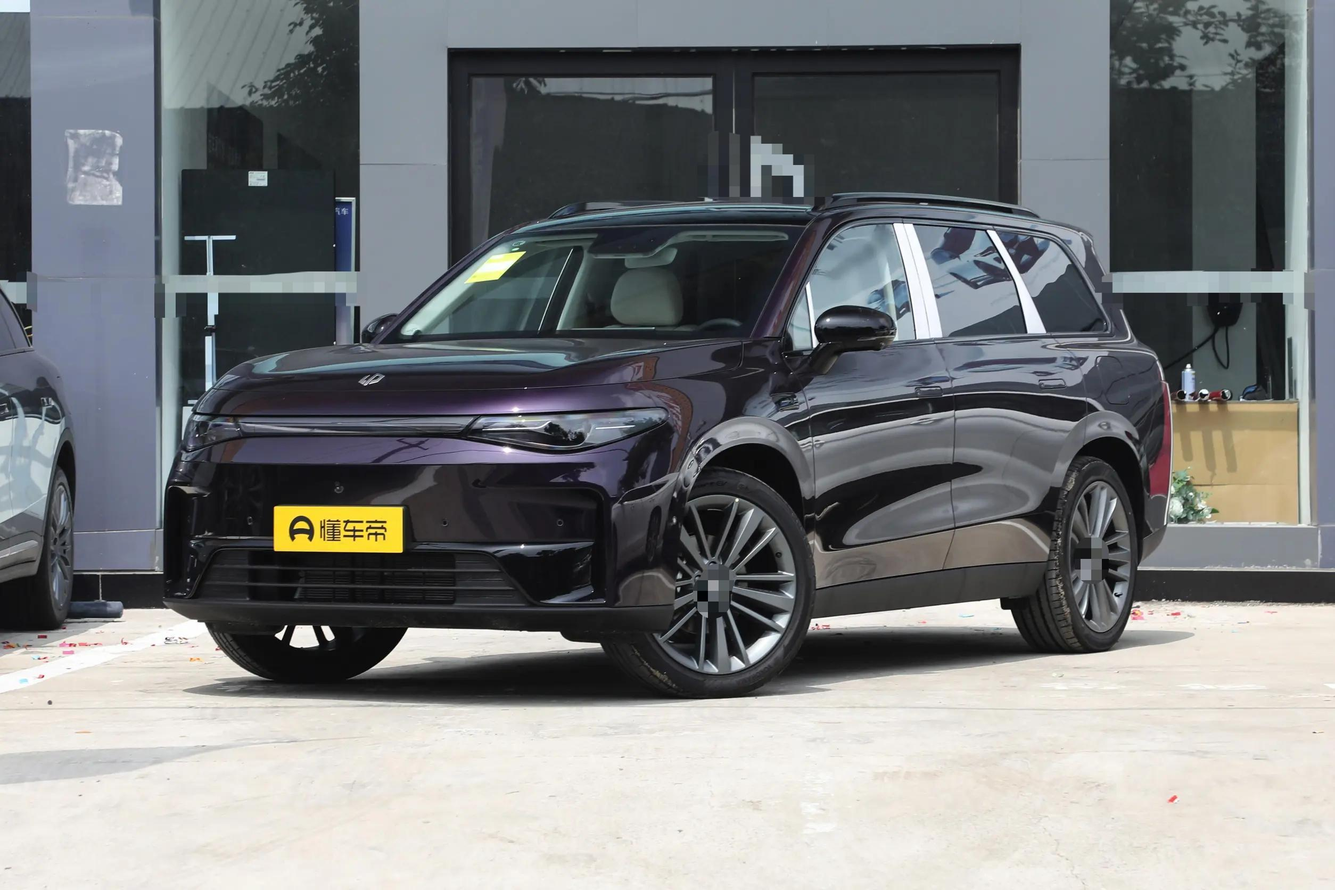LEAPMOTOR: (358, 372, 386, 386)
